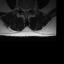CCS_normal: (24, 7, 27, 15)
LFS_normal: (29, 6, 31, 11)
LLS_normal: (26, 7, 29, 13)
RFS_normal: (20, 5, 22, 12)
RLS_normal: (22, 6, 24, 14)
